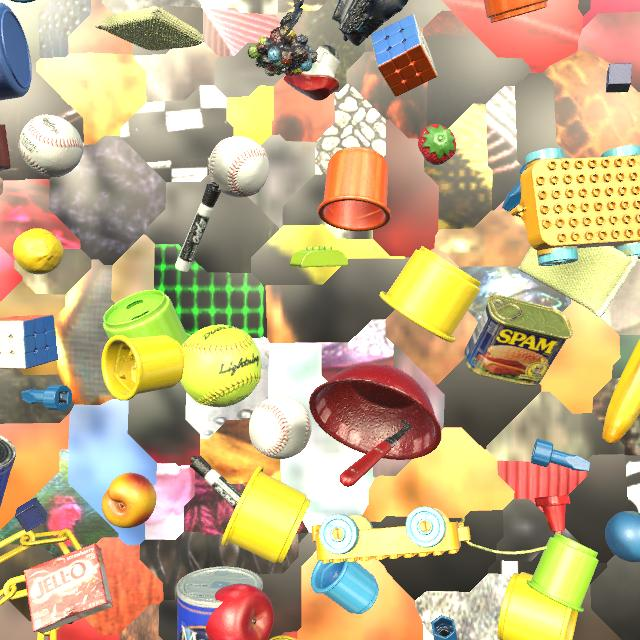ycb_002_master_chef_can: (176, 567, 263, 640), (0, 435, 16, 507)
ycb_009_gelatin_box: (23, 543, 113, 634)
ycb_010_potted_meat_can: (464, 294, 573, 386)
ycb_011_banana: (602, 339, 640, 444)
ycb_012_strawberry: (418, 124, 457, 165)
ycb_013_apple: (206, 584, 274, 640)
ycb_014_lemon: (13, 228, 64, 274)
ycb_015_peach: (102, 473, 156, 528)
